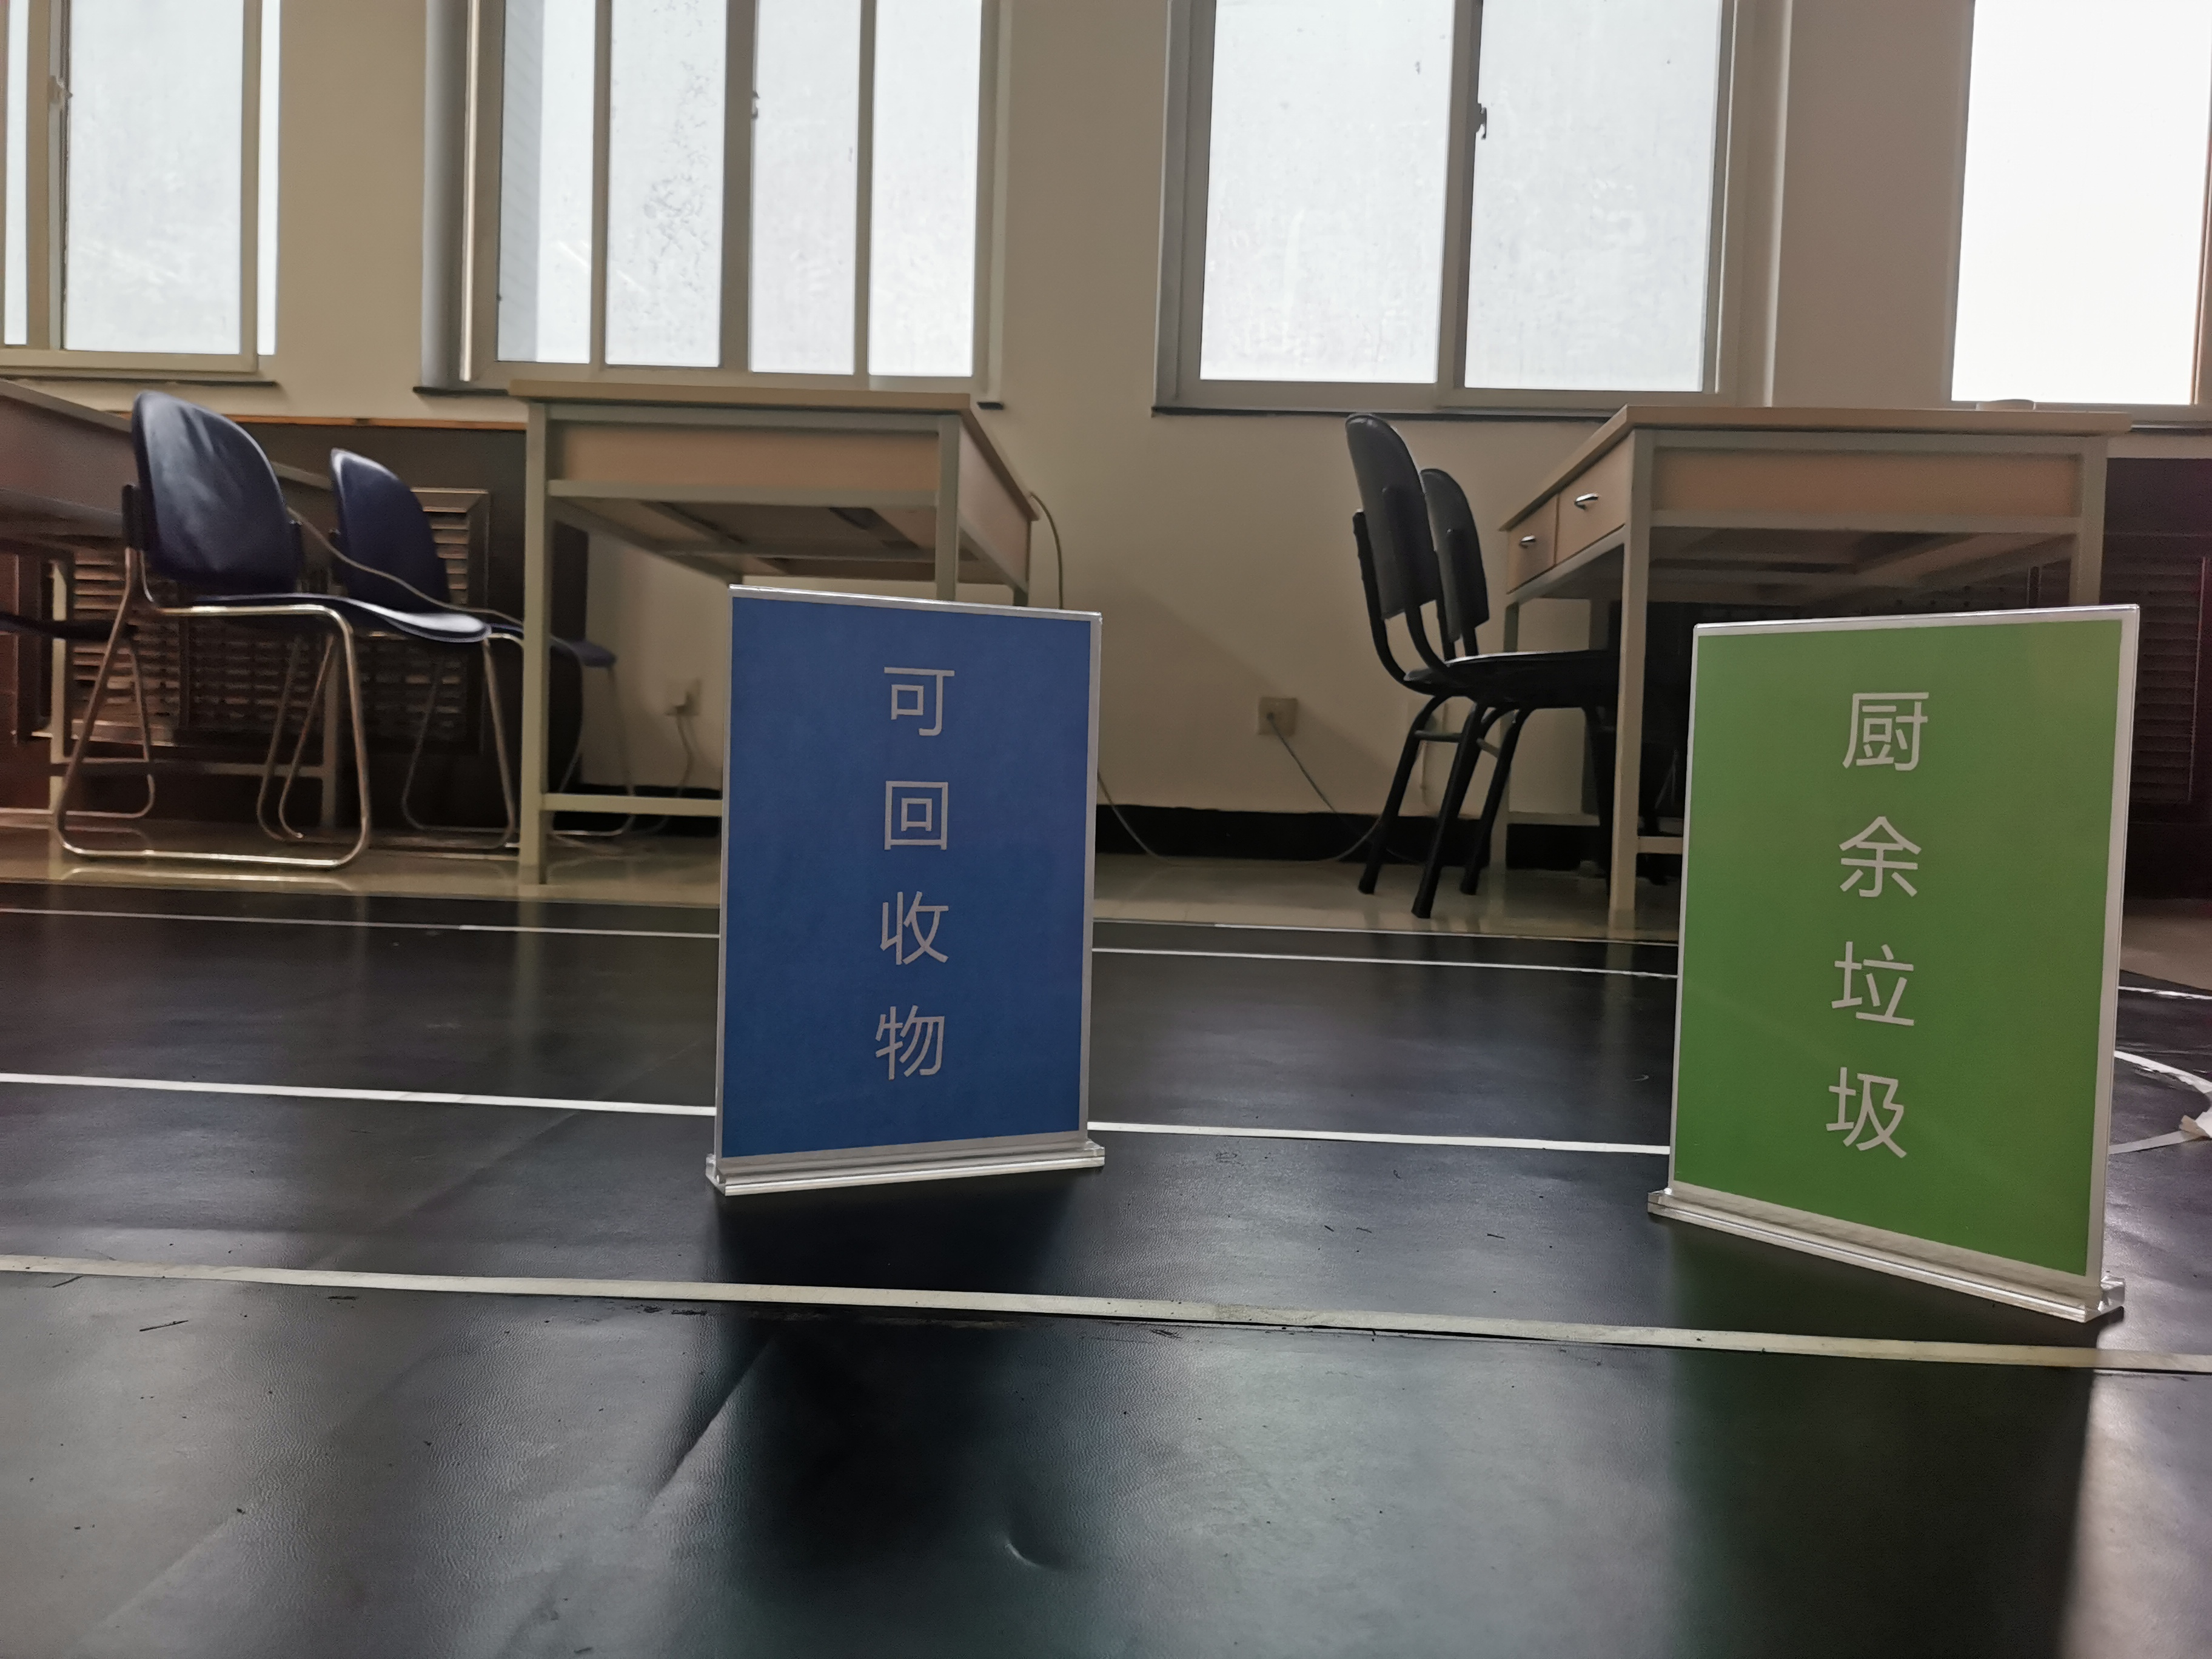blue: (742, 638, 1076, 1124)
green: (1703, 638, 2088, 1178)
